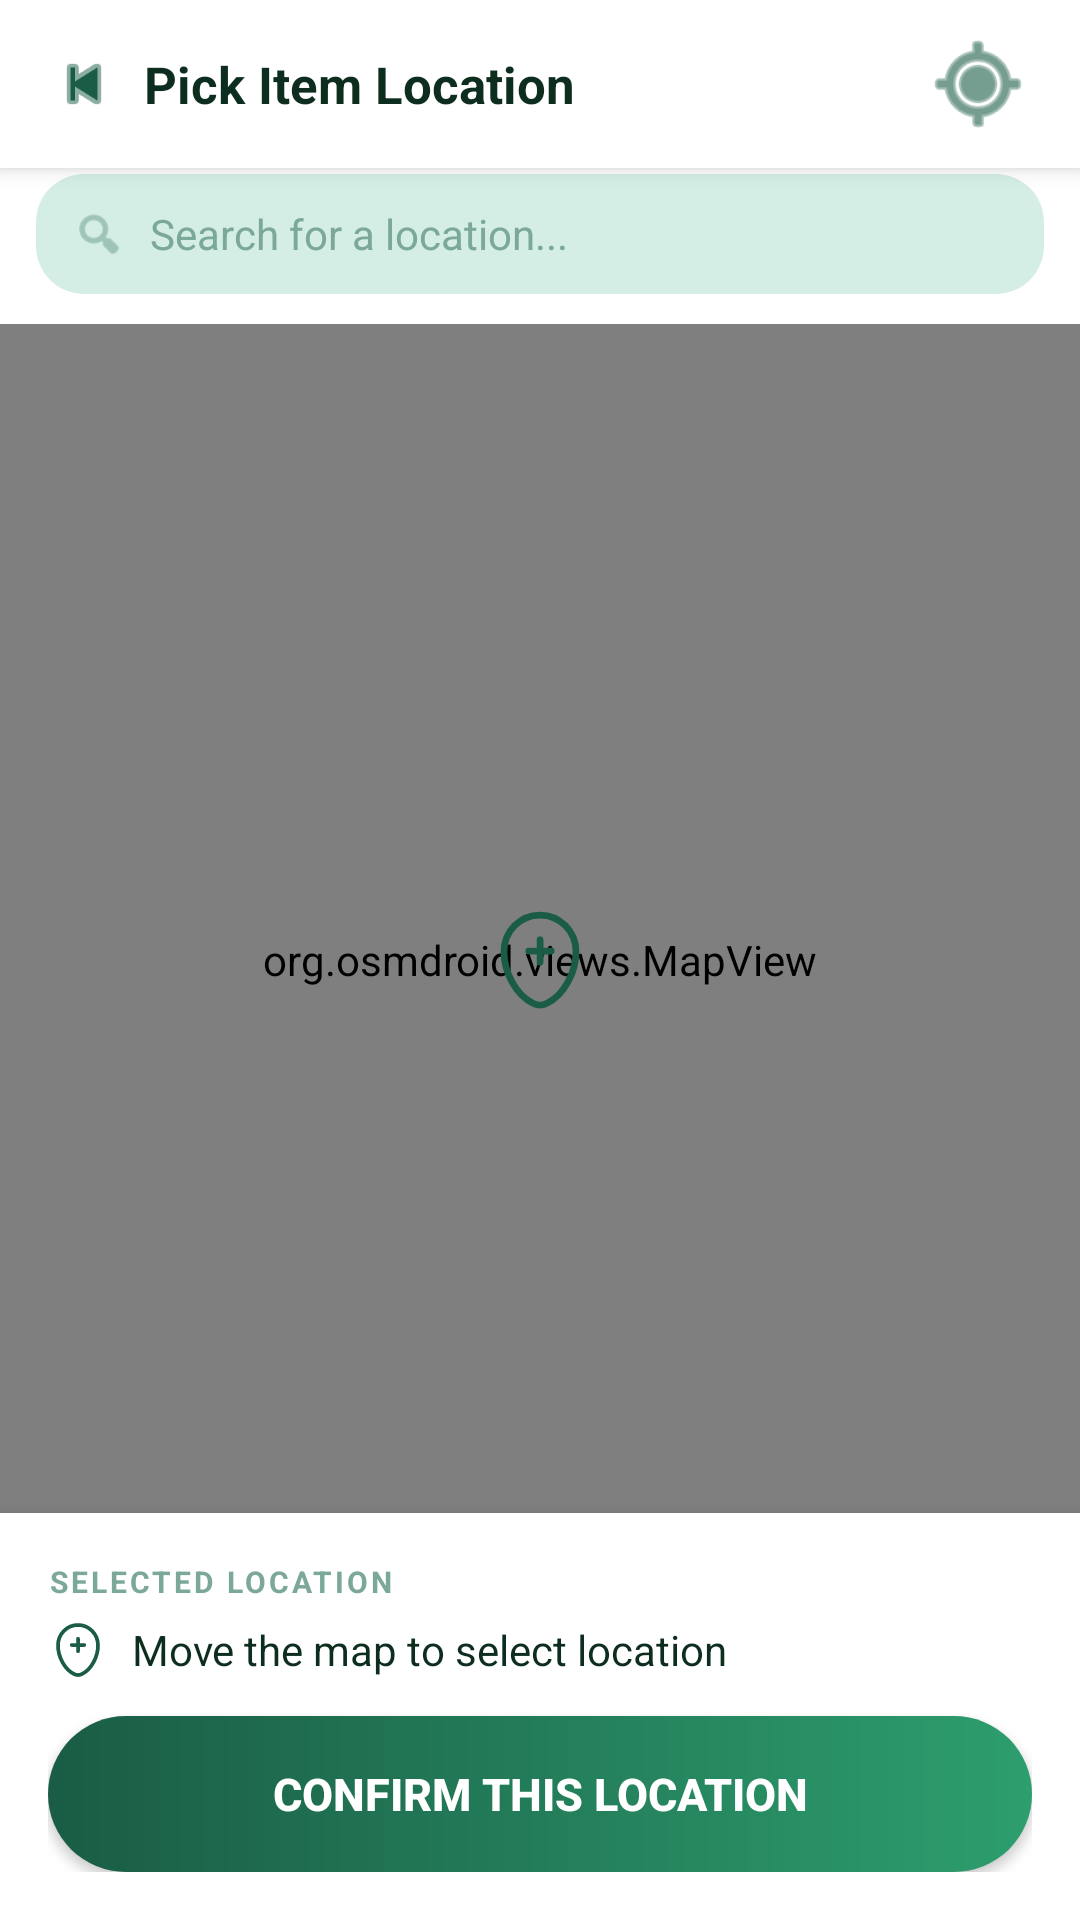

Icon click points for this 1080 x 1920 phone screenshot, format [x,y]:
mylocation: [978,84]
previous: [84,84]
